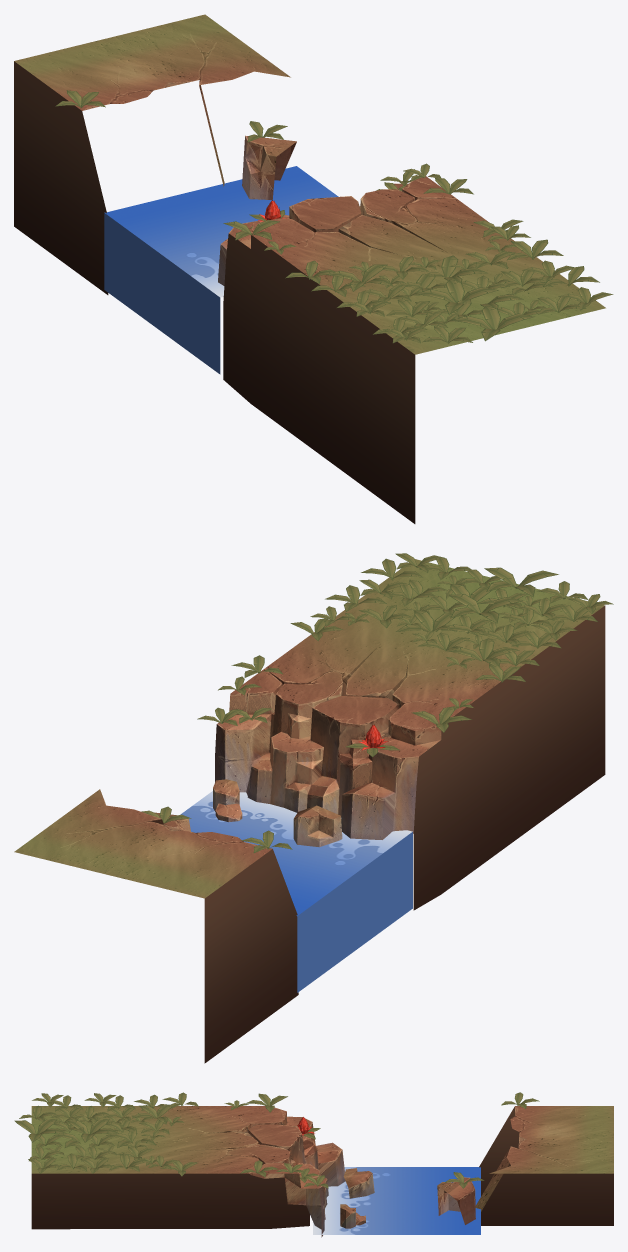
File: cannon_environment_model.FBX
3 renders of one model, top to bottom at view 1: azimuth 30°, elevation 25°; view 2: azimuth 150°, elevation 25°; view 3: azimuth 270°, elevation 25°, orthographic. The views are drawn at different scales.
Parts seen in each view (by area): view 1: cannon_environment; view 2: cannon_environment; view 3: cannon_environment.
Part boxes in pixels (bbox=[...]): cannon_environment: bbox=[14, 14, 613, 523]; cannon_environment: bbox=[14, 553, 613, 1063]; cannon_environment: bbox=[14, 1092, 613, 1237].
Size of the model in its own units: 6.88 by 5 by 20.6.
